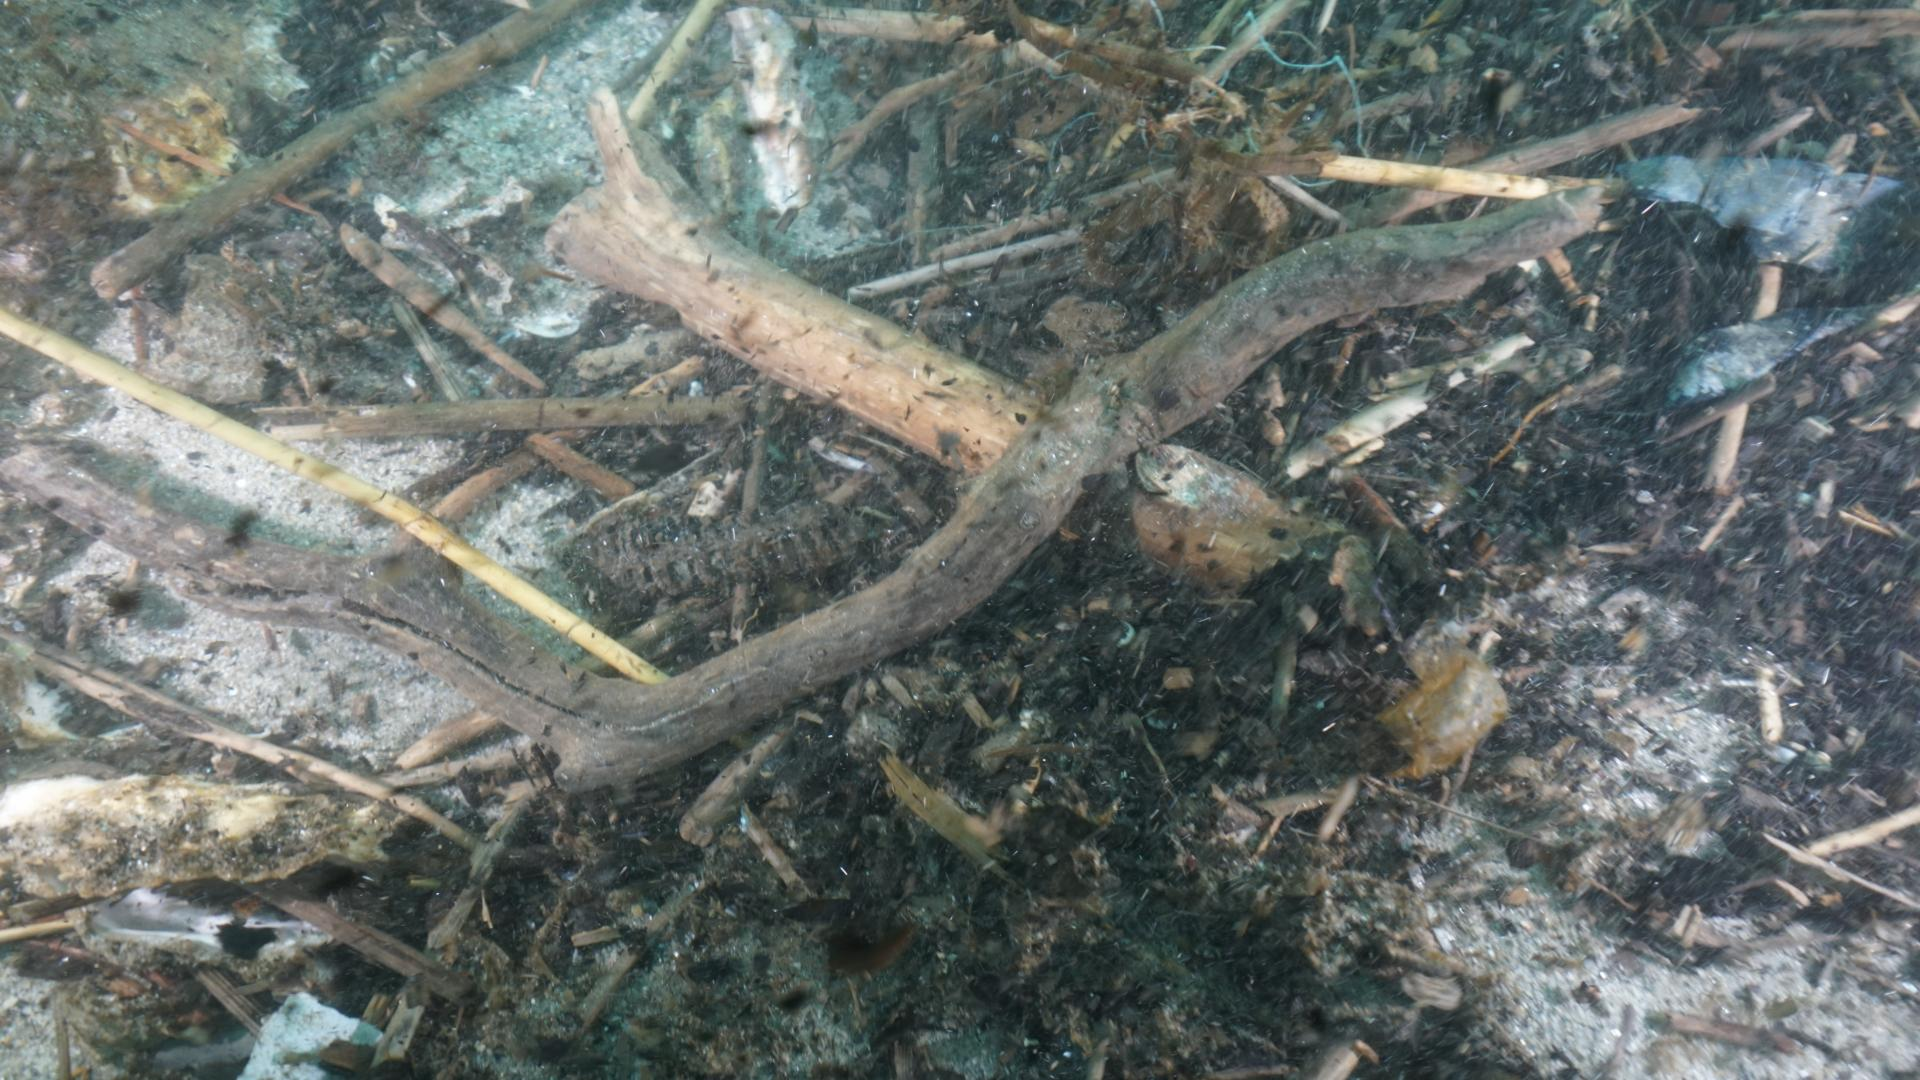wood: (0, 84, 1601, 791)
